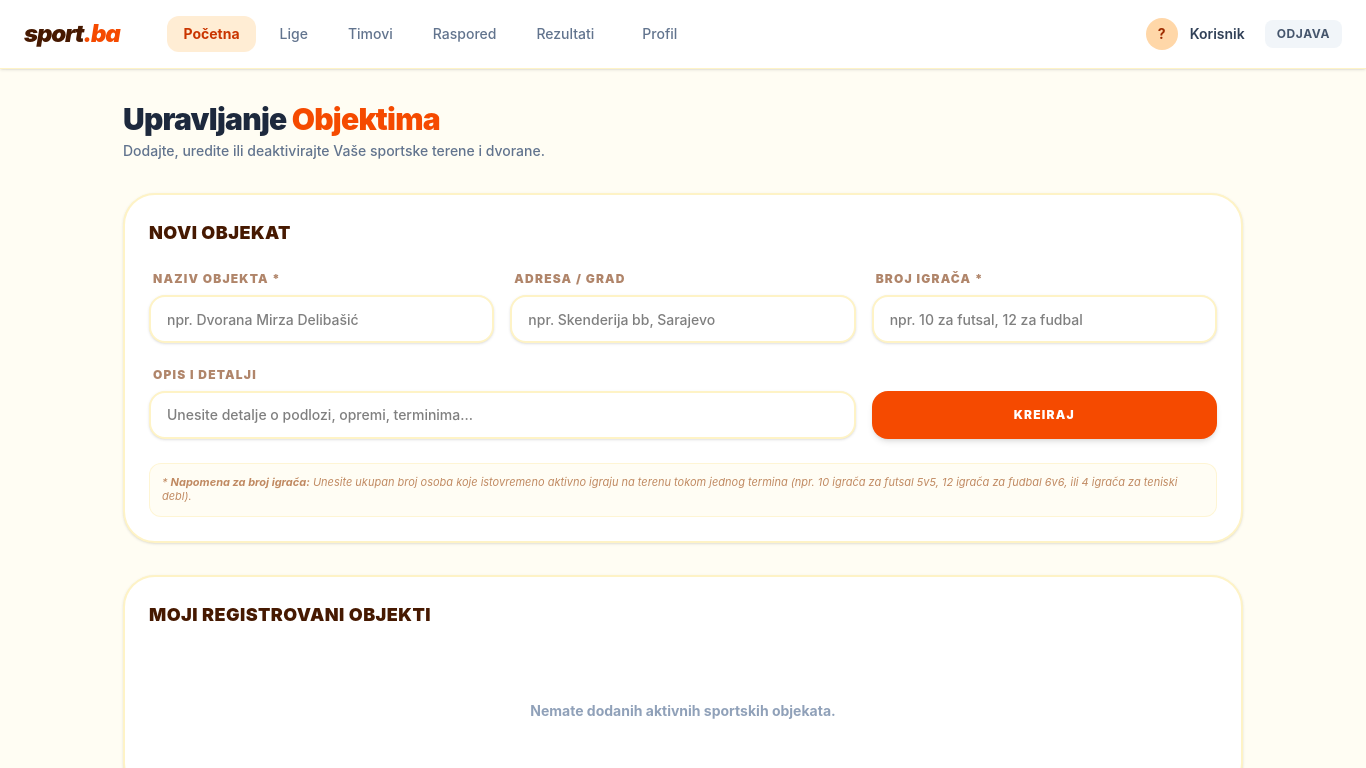
Test: Validacija forme › prikazuje grešku ako je naziv samo brojevi
Expected: the text "Nemate dodanih aktivnih sportskih objekata." is shown, [530,702,836,718]
In the field with placeholder "npr. Dvorana Mirza Delibašić": (322, 319) [149,295,494,343], type "12345"
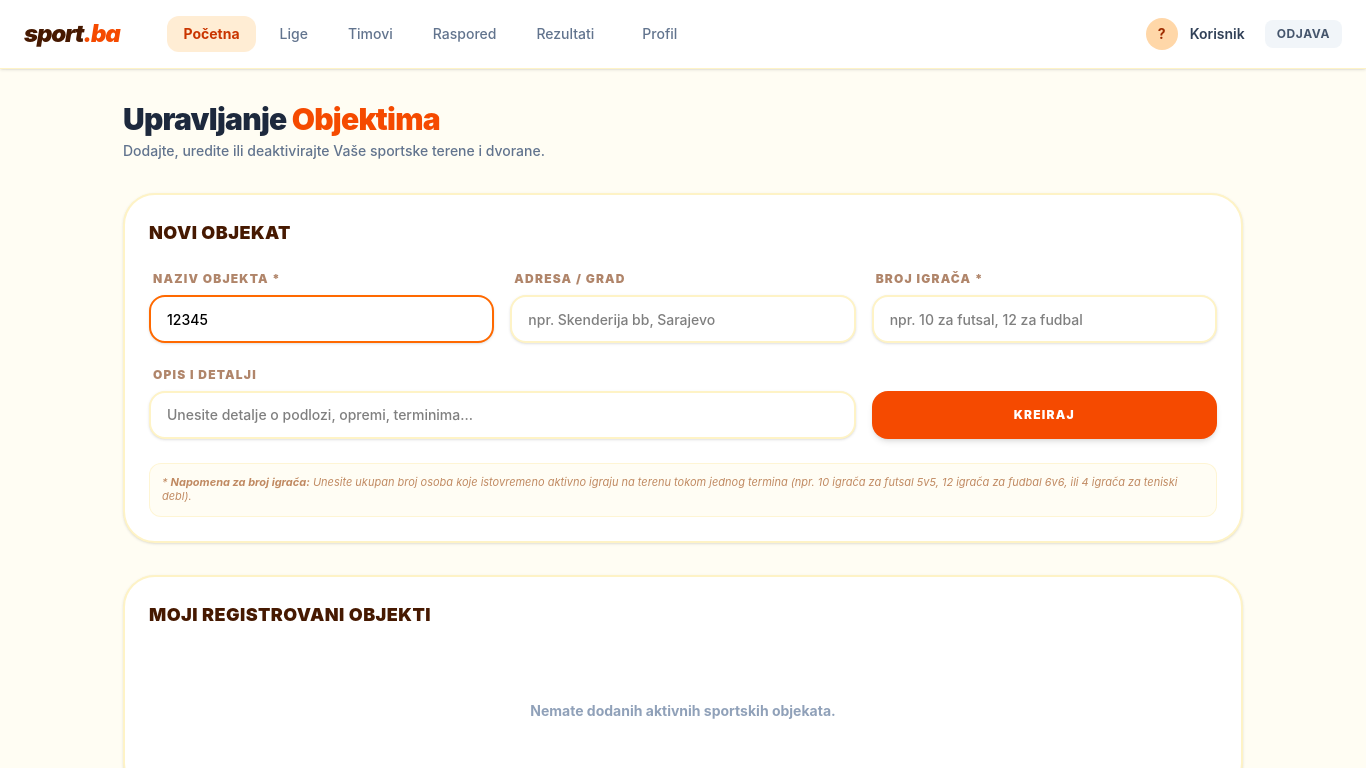
Click the button "Kreiraj": (1044, 415) [872,391,1217,439]
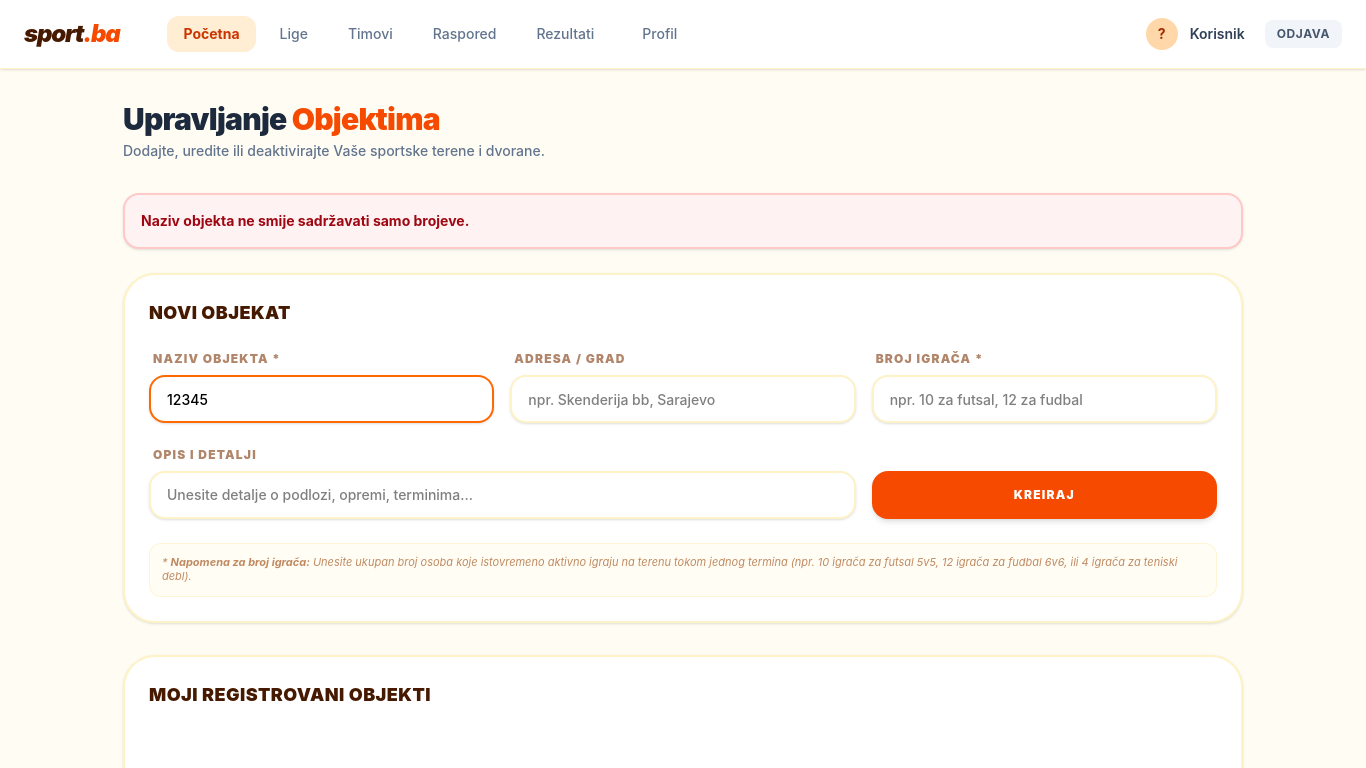
Now the text "Naziv objekta ne smije sadržavati samo brojeve." is shown, box [123,193,1243,249]
